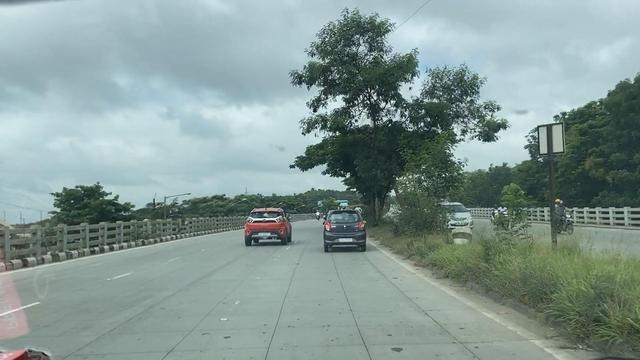LMV: (250, 207, 293, 243), (328, 211, 367, 248)
